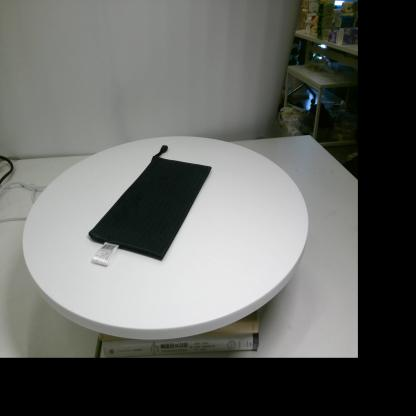Stationery: (88, 145, 212, 266)
